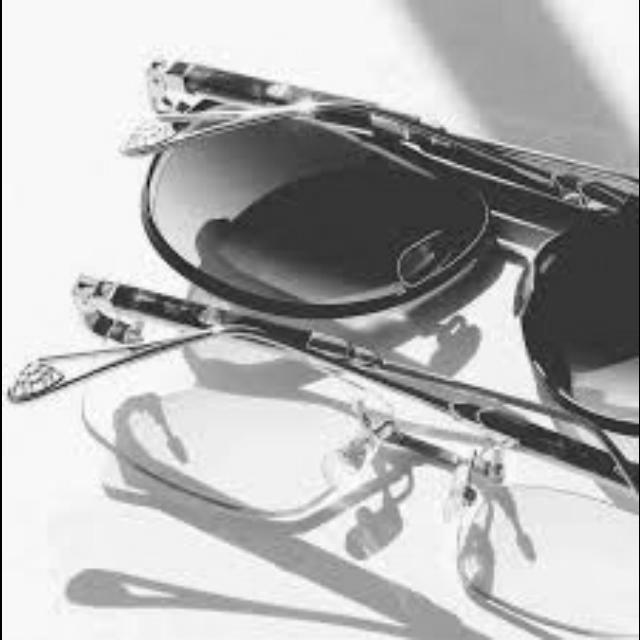Sunglasses: (122, 26, 638, 407)
glasses: (26, 238, 638, 640)
